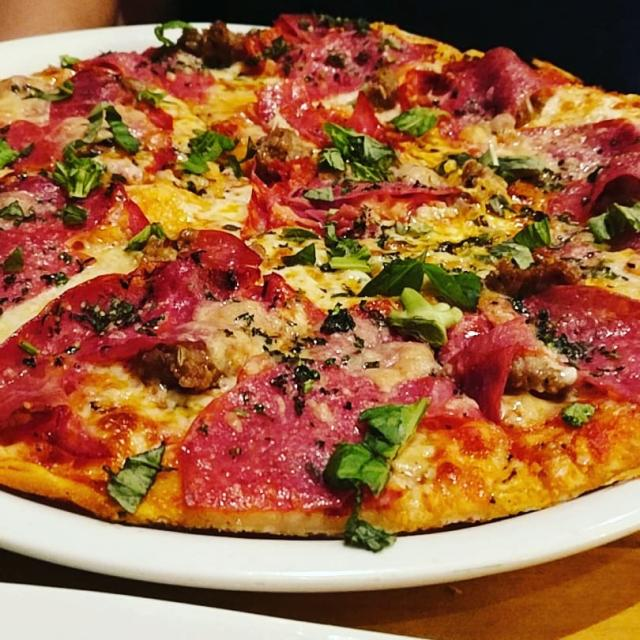basil: (108, 444, 160, 508), (316, 125, 384, 170), (361, 256, 425, 297), (81, 105, 140, 149), (334, 441, 385, 489), (431, 262, 479, 308), (319, 223, 372, 264), (178, 130, 230, 171), (359, 398, 400, 442), (118, 222, 184, 248), (595, 202, 640, 239), (486, 153, 547, 180), (28, 76, 77, 104), (64, 157, 101, 193), (387, 108, 437, 134), (346, 521, 397, 546), (325, 305, 355, 338), (496, 242, 534, 268), (403, 393, 420, 439), (288, 244, 325, 262), (515, 224, 549, 239), (67, 139, 88, 152), (66, 205, 79, 222), (6, 206, 24, 217), (0, 140, 11, 158)
pizza: (0, 13, 640, 554)
